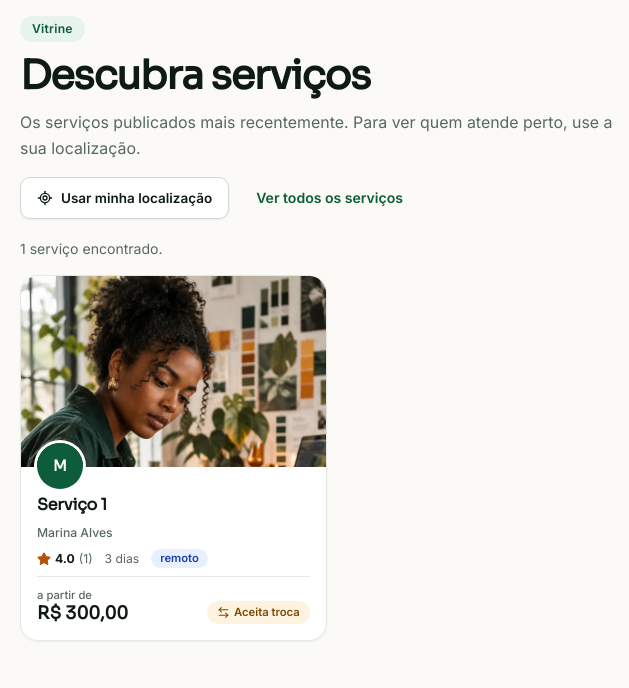
Showcase › localização negada: avisa e segue pelos mais recentes
Click the button "Usar minha localização" at (125, 198), box [20, 177, 229, 219]
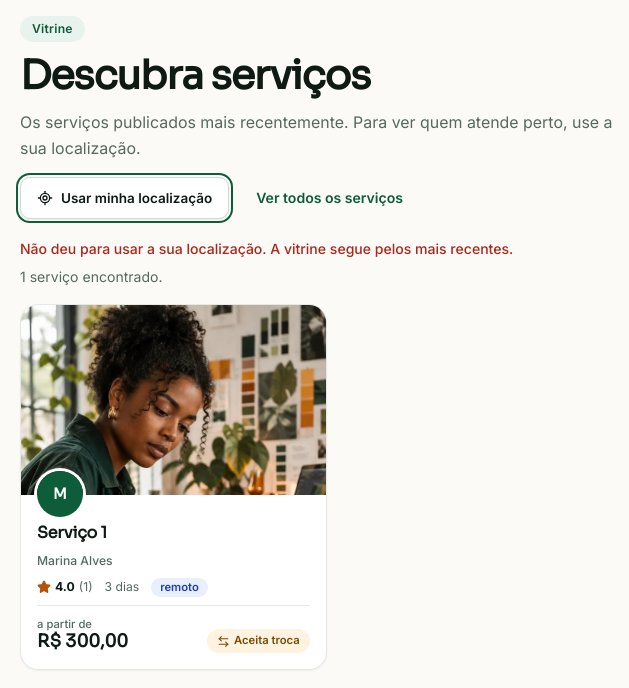
Expected: the message "Não deu para usar a sua localização. A vitrine segue pelos mais recentes." is shown, [20, 240, 513, 257]
